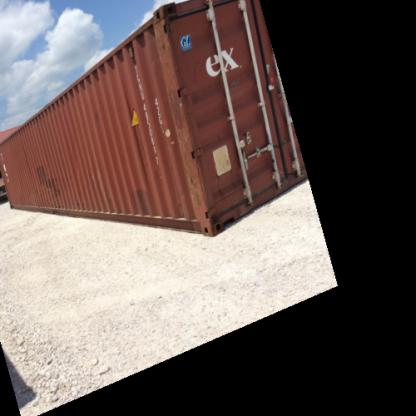Damage: (146, 10, 215, 214)
